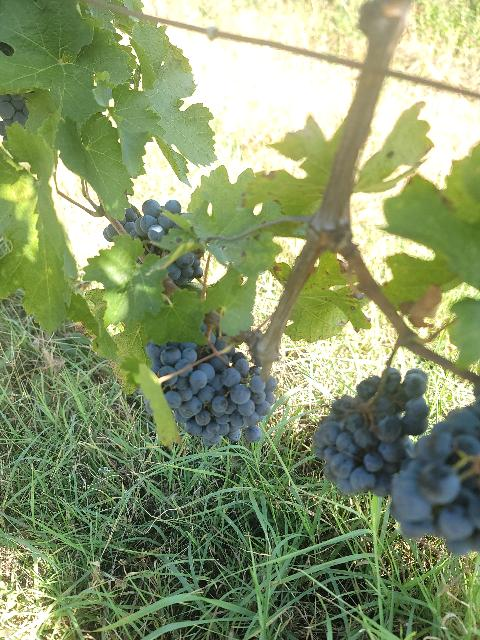grapes: (145, 332, 278, 446), (314, 368, 429, 496), (390, 396, 480, 555), (124, 200, 181, 258), (166, 249, 204, 285)
